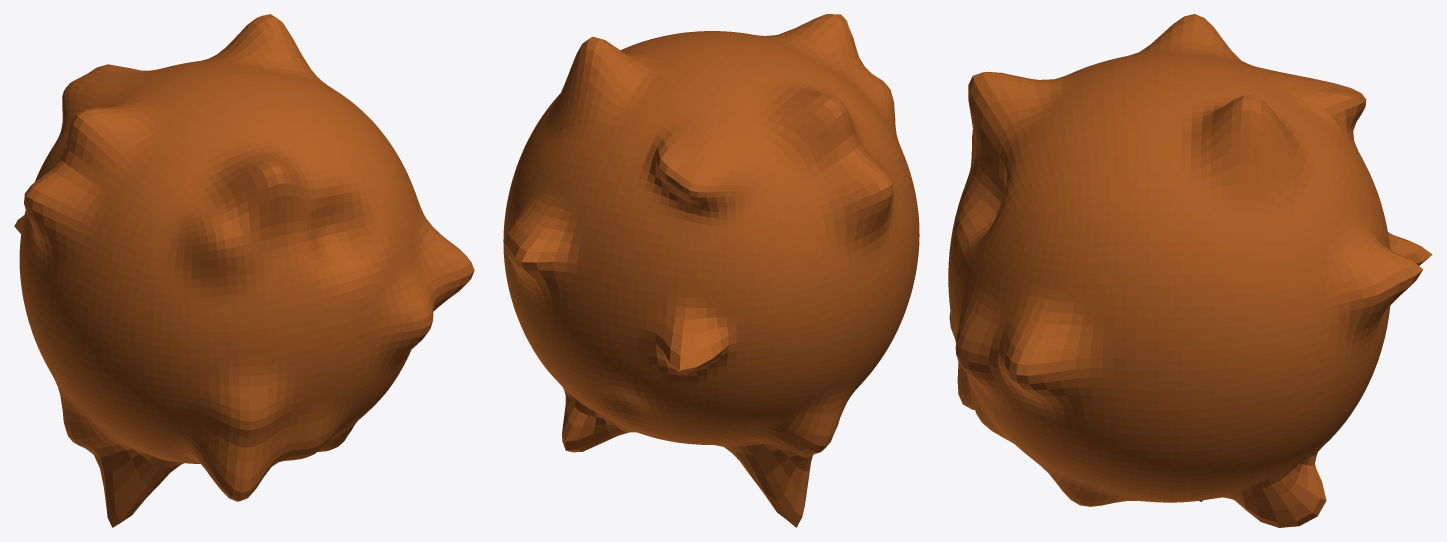
The model's file is vr_lab_globe.glb.
3 renders of one model, left to right at view 1: azimuth 30°, elevation 25°; view 2: azimuth 150°, elevation 25°; view 3: azimuth 270°, elevation 25°, orthographic. The views are drawn at different scales.
Visible parts, largest first — view 1: Cube; view 2: Cube; view 3: Cube.
Part boxes in pixels (bbox=[...]): Cube: bbox=[14, 14, 474, 527]; Cube: bbox=[503, 14, 919, 527]; Cube: bbox=[948, 14, 1432, 527].
Bounding box in the file's own units: 15.39 × 18.01 × 15.79.
